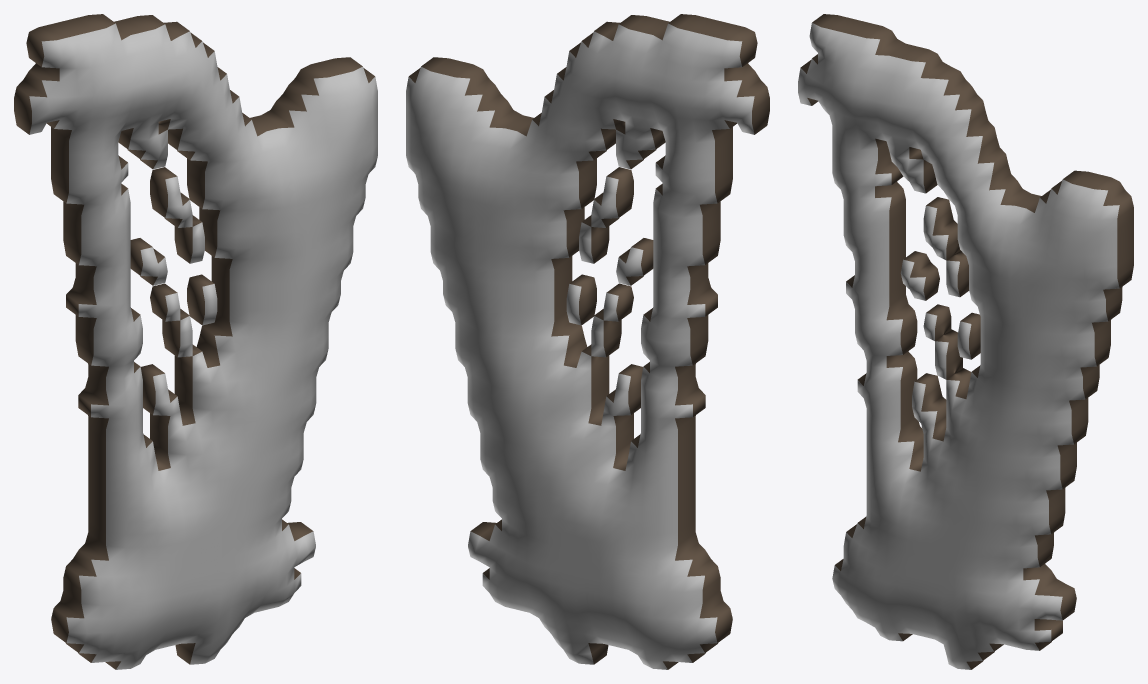
File: harp.glb
3 renders of one model, left to right at view 1: azimuth 30°, elevation 25°; view 2: azimuth 150°, elevation 25°; view 3: azimuth 330°, elevation 25°, orthographic. The views are drawn at different scales.
Visible parts, largest first — view 1: harp; view 2: harp; view 3: harp.
Boxes of the visible parts, box(x1,y1,x2,y2) form: harp: box(14, 14, 377, 669); harp: box(406, 14, 769, 669); harp: box(798, 14, 1133, 669).
Size of the model in its own units: 0.6462 by 1.18 by 0.1646.
